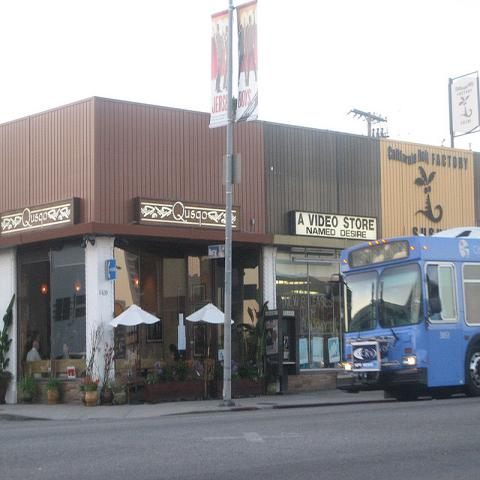bus: (339, 225, 479, 400)
